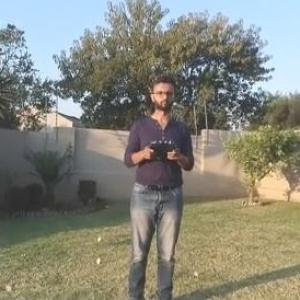follow: (118, 70, 200, 299)
